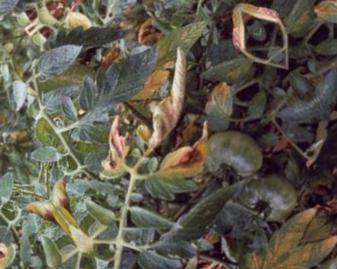Tomato Early blight leaf: (106, 46, 221, 158), (237, 183, 337, 269), (134, 122, 228, 209), (39, 172, 109, 250), (76, 110, 148, 185), (139, 253, 217, 269)
Tomato leaf: (152, 173, 256, 267), (72, 38, 170, 128), (29, 34, 87, 87)
